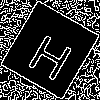H: (25, 25, 80, 82)
